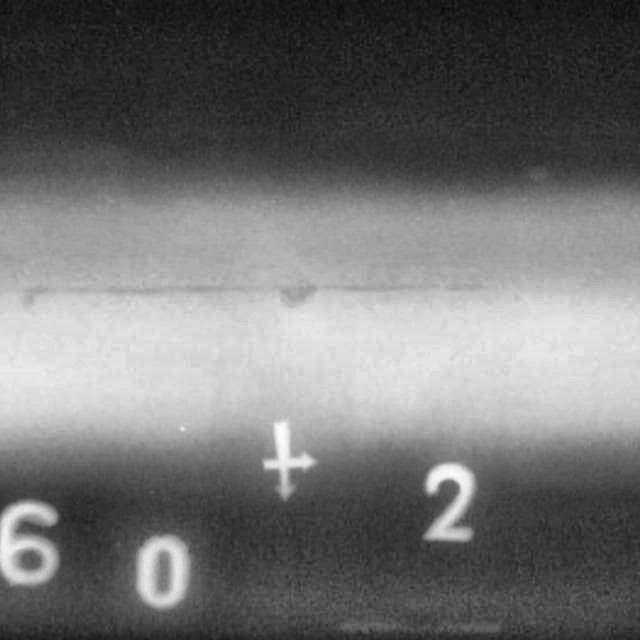LoP-LoF: (5, 257, 559, 335)
